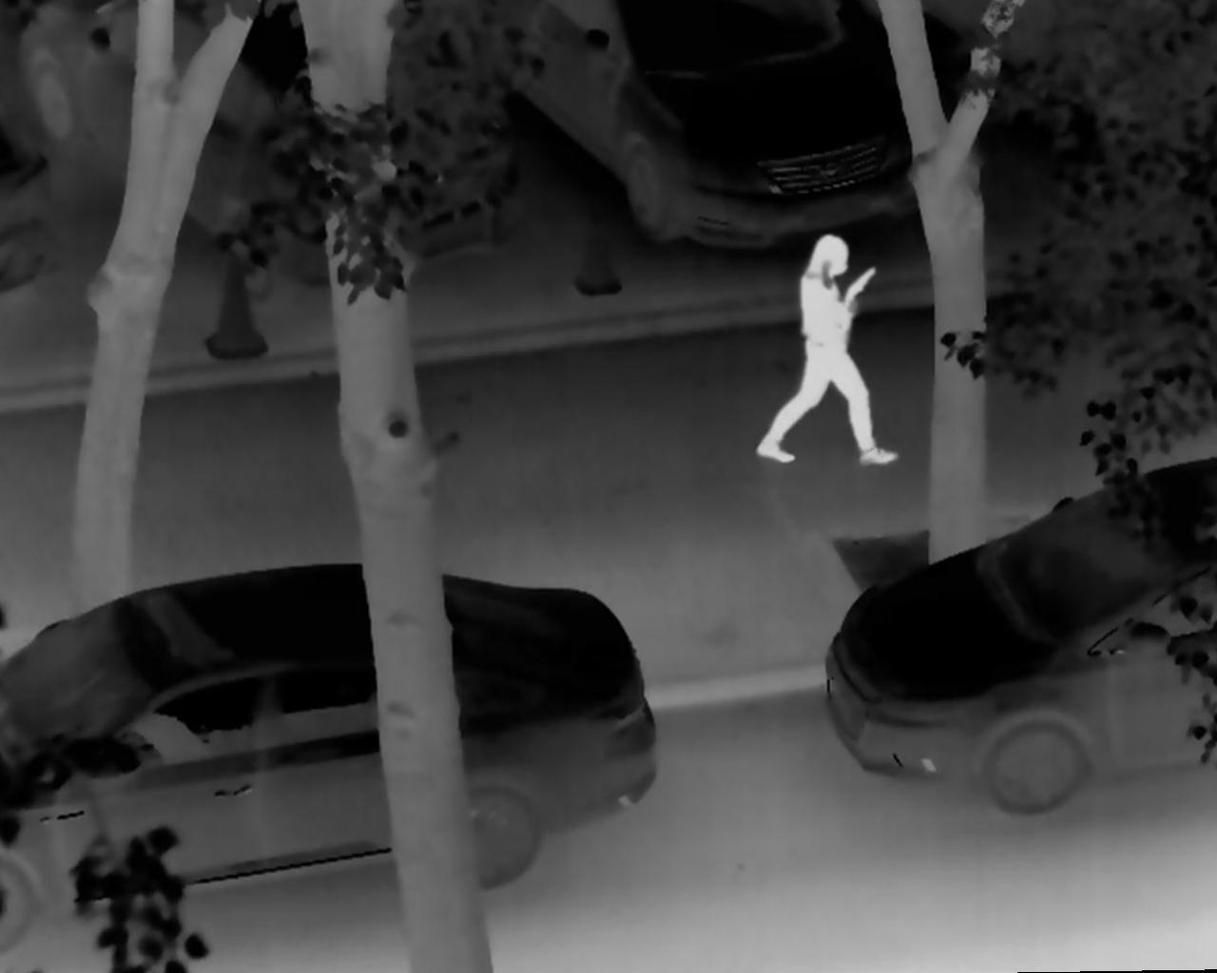person: (758, 228, 900, 470)
